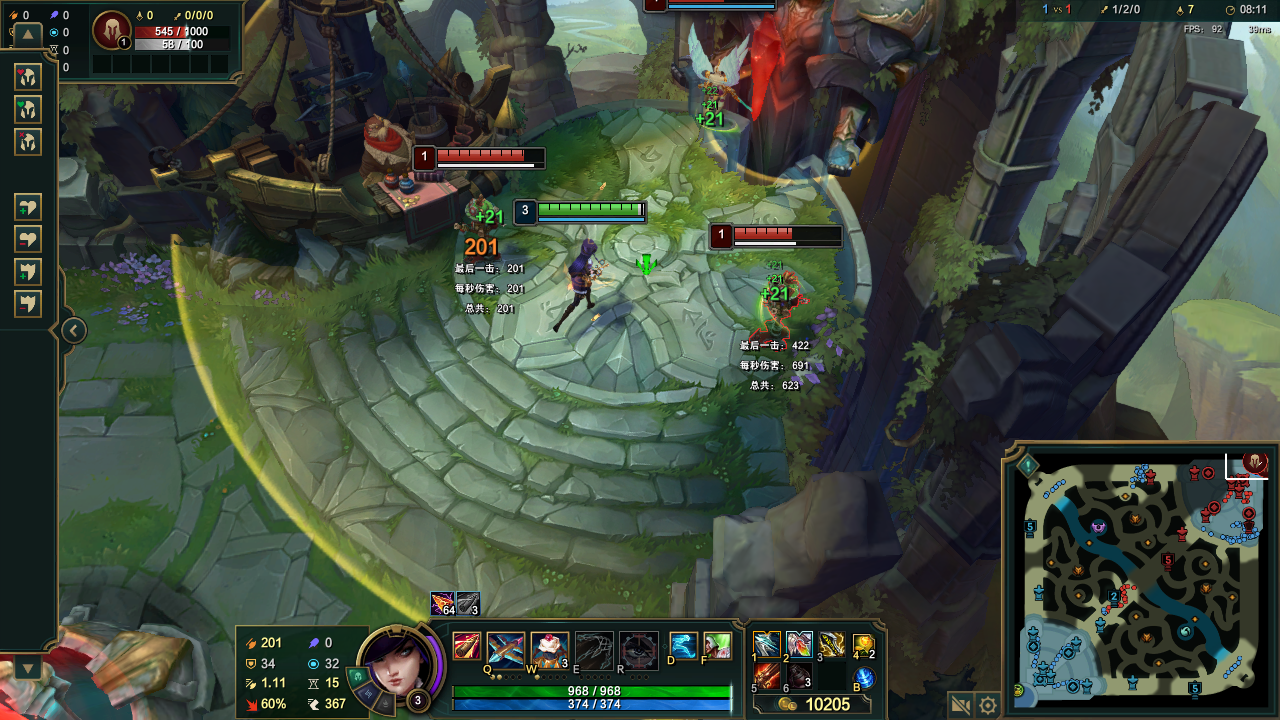DFYX: (431, 147, 555, 166), (733, 223, 843, 238)
